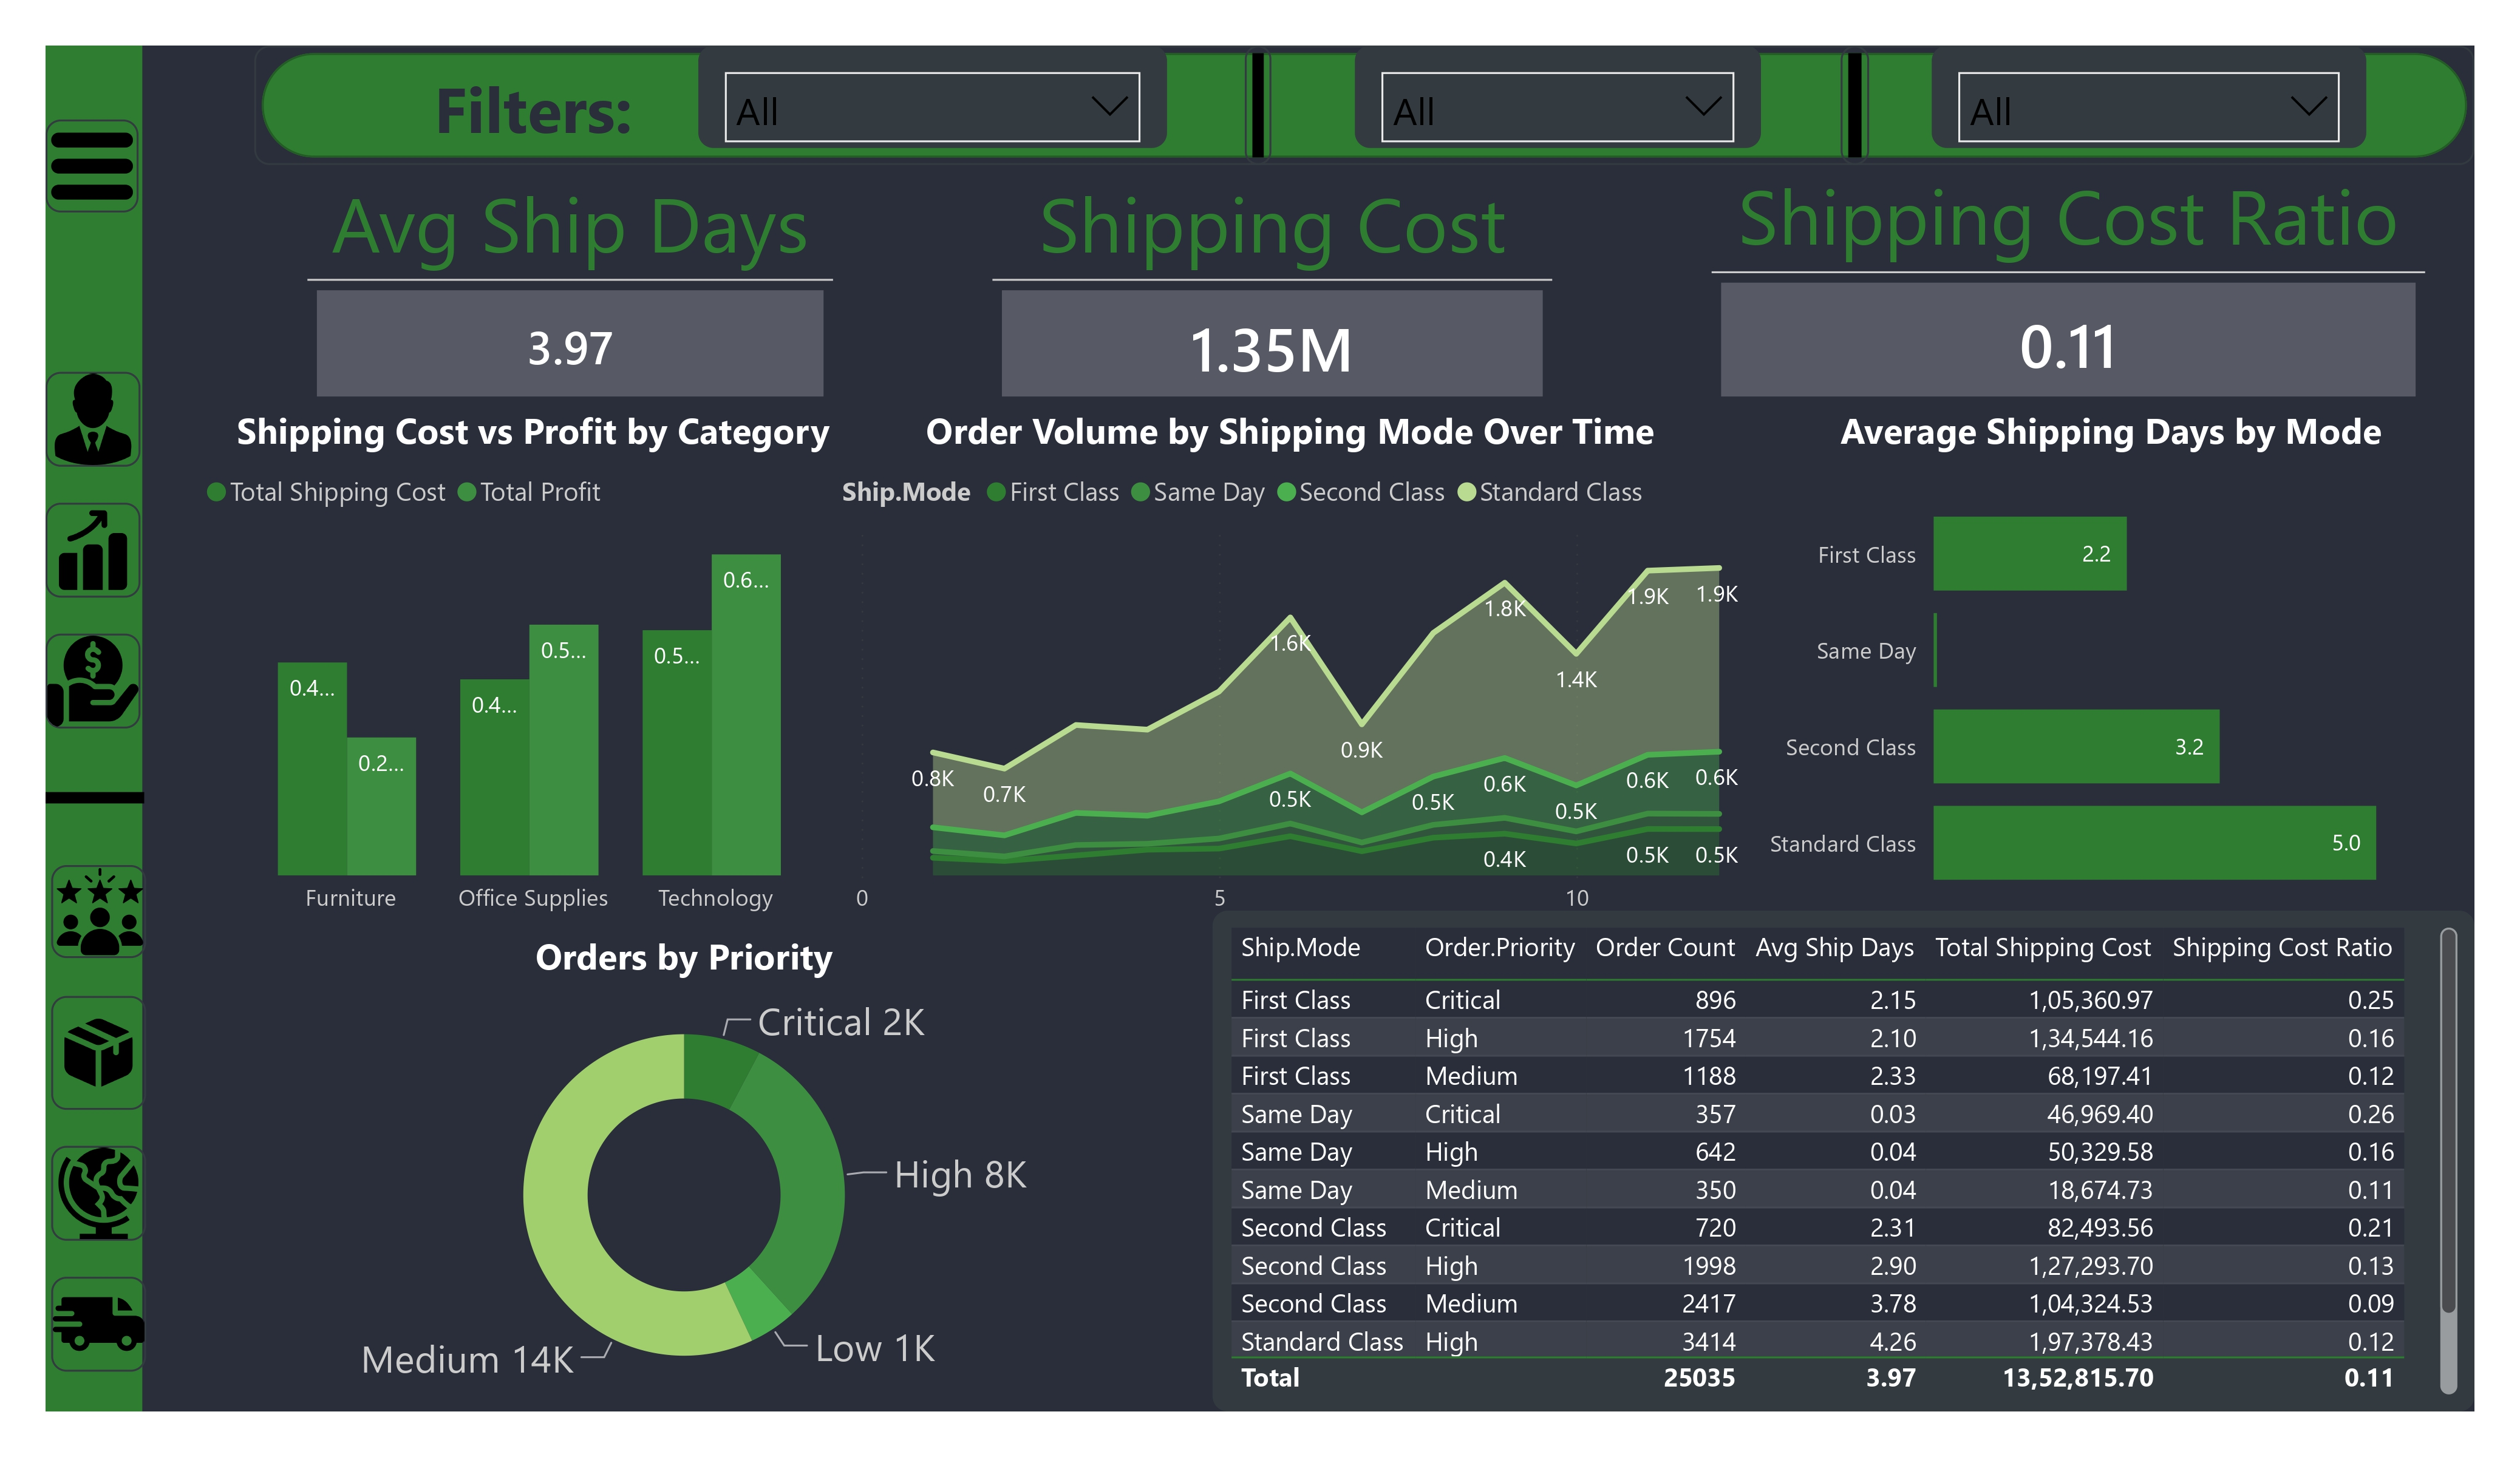

This screenshot's page, from the dashboard's own definition file:
{"tool":"powerbi","page":{"name":"Shipping","canvas":[1280,720],"ordinal":7},"visuals":[{"type":"group","id":"g1","title":"side bar collapsed","box":[0,0,52.7,720.4],"z":0},{"type":"shape","box":[0,0,50.6,720.4],"z":0,"group":"g1"},{"type":"shape","box":[110.3,0,1169.7,62.6],"z":0,"group":"g2"},{"type":"group","id":"g2","title":"title slicer","box":[110.3,0,1169.7,62.6],"z":1000},{"type":"slicer","fields":{"Values":["orders.Ship.Mode"]},"box":[344.2,0,247.4,53.6],"z":1000,"group":"g2"},{"type":"image","box":[0,241.4,49.8,49.8],"z":1000,"group":"g1"},{"type":"slicer","fields":{"Values":["DateTable.Year"]},"box":[690,0,214.6,53.6],"z":2000,"group":"g2"},{"type":"cardVisual","title":"Avg  Ship Days ","fields":{"Data":["_Measures.Avg Ship Days"]},"box":[138.2,66.2,276.5,123.8],"z":2000},{"type":"image","box":[0,310.5,49.8,49.8],"z":2000,"group":"g1"},{"type":"slicer","fields":{"Values":["orders.Order.Priority"]},"box":[993.9,0,229.5,53.6],"z":3000,"group":"g2"},{"type":"cardVisual","title":"Shipping Cost","fields":{"Data":["_Measures.Total Shipping Cost"]},"box":[499,66.2,295.2,123.8],"z":3000},{"type":"image","box":[3,431.6,49.8,49.8],"z":3000,"group":"g1"},{"type":"shape","box":[186.3,3,141.6,56.6],"z":4000,"group":"g2"},{"type":"cardVisual","title":"Shipping Cost Ratio","fields":{"Data":["_Measures.Shipping Cost Ratio"]},"box":[878.4,61.9,375.8,128.2],"z":4000},{"type":"image","box":[3,500.6,49.8,60],"z":4000,"group":"g1"},{"type":"shape","box":[631.8,0,14.9,62.6],"z":5000,"group":"g2"},{"type":"image","box":[3,579.9,49.8,49.8],"z":5000,"group":"g1"},{"type":"shape","box":[946.2,0,14.9,62.6],"z":6000,"group":"g2"},{"type":"image","box":[0,38.7,49.1,49.1],"z":6000,"group":"g1"},{"type":"barChart","title":"Average Shipping Days by Mode","fields":{"Category":["orders.Ship.Mode"],"Y":["_Measures.Avg Ship Days"]},"box":[897.1,190.1,383,276.5],"z":6000},{"type":"image","box":[0,172.4,49.8,49.8],"z":7000,"group":"g1"},{"type":"clusteredColumnChart","title":"Shipping Cost vs Profit by Category","fields":{"Category":["orders.Category"],"Y":["_Measures.Total Shipping Cost","_Measures.Total Profit"]},"box":[79.2,190.1,355.7,276.5],"z":7000},{"type":"stackedAreaChart","title":"Order Volume by Shipping Mode Over Time","fields":{"Category":["DateTable.Month"],"Series":["orders.Ship.Mode"],"Y":["_Measures.Order Count"]},"box":[414.7,190.1,482.4,276.5],"z":8000},{"type":"shape","box":[0,385.5,52.1,22.3],"z":8000,"group":"g1"},{"type":"donutChart","title":"Orders by Priority","fields":{"Category":["orders.Order.Priority"],"Y":["_Measures.Order Count"]},"box":[80.6,466.6,511.2,253.4],"z":9000},{"type":"image","box":[3,648.9,49.8,49.8],"z":9000,"group":"g1"},{"type":"tableEx","fields":{"Values":["orders.Ship.Mode","orders.Order.Priority","_Measures.Order Count","_Measures.Avg Ship Days","_Measures.Total Shipping Cost","_Measures.Shipping Cost Ratio"]},"box":[614.9,456.5,665.3,263.5],"z":10000}]}

Visuals, with their boxes on the page's 1280x720 design canvas (x1, y1, x2, y2). These are canvas units, not pixel positions in the 2520x1457 screenshot, which may show the page scaled, cropped or inside an application window:
"side bar collapsed" group: [0, 0, 53, 720]
shape: [0, 0, 51, 720]
shape: [110, 0, 1280, 63]
"title slicer" group: [110, 0, 1280, 63]
slicer - orders.Ship.Mode: [344, 0, 592, 54]
image: [0, 241, 50, 291]
slicer - DateTable.Year: [690, 0, 905, 54]
"Avg  Ship Days " cardVisual: [138, 66, 415, 190]
image: [0, 310, 50, 360]
slicer - orders.Order.Priority: [994, 0, 1223, 54]
"Shipping Cost" cardVisual: [499, 66, 794, 190]
image: [3, 432, 53, 481]
shape: [186, 3, 328, 60]
"Shipping Cost Ratio" cardVisual: [878, 62, 1254, 190]
image: [3, 501, 53, 561]
shape: [632, 0, 647, 63]
image: [3, 580, 53, 630]
shape: [946, 0, 961, 63]
image: [0, 39, 49, 88]
"Average Shipping Days by Mode" barChart: [897, 190, 1280, 467]
image: [0, 172, 50, 222]
"Shipping Cost vs Profit by Category" clusteredColumnChart: [79, 190, 435, 467]
"Order Volume by Shipping Mode Over Time" stackedAreaChart: [415, 190, 897, 467]
shape: [0, 386, 52, 408]
"Orders by Priority" donutChart: [81, 467, 592, 720]
image: [3, 649, 53, 699]
tableEx - orders.Ship.Mode x orders.Order.Priority: [615, 456, 1280, 720]
